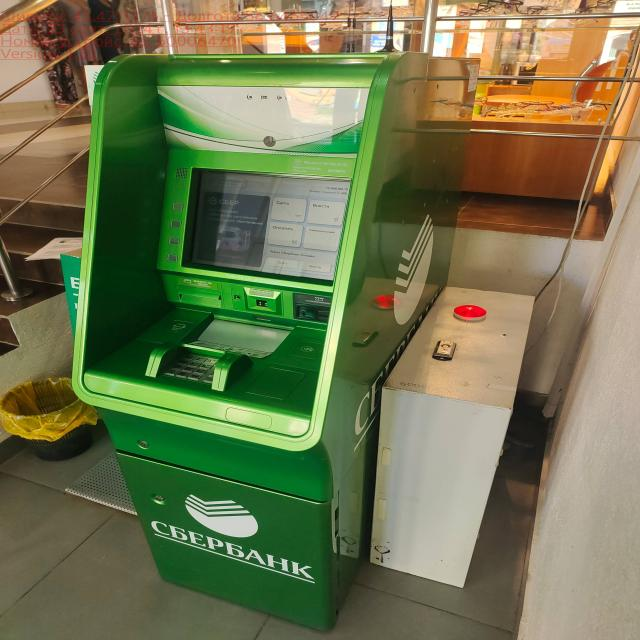bank: (75, 44, 460, 627)
